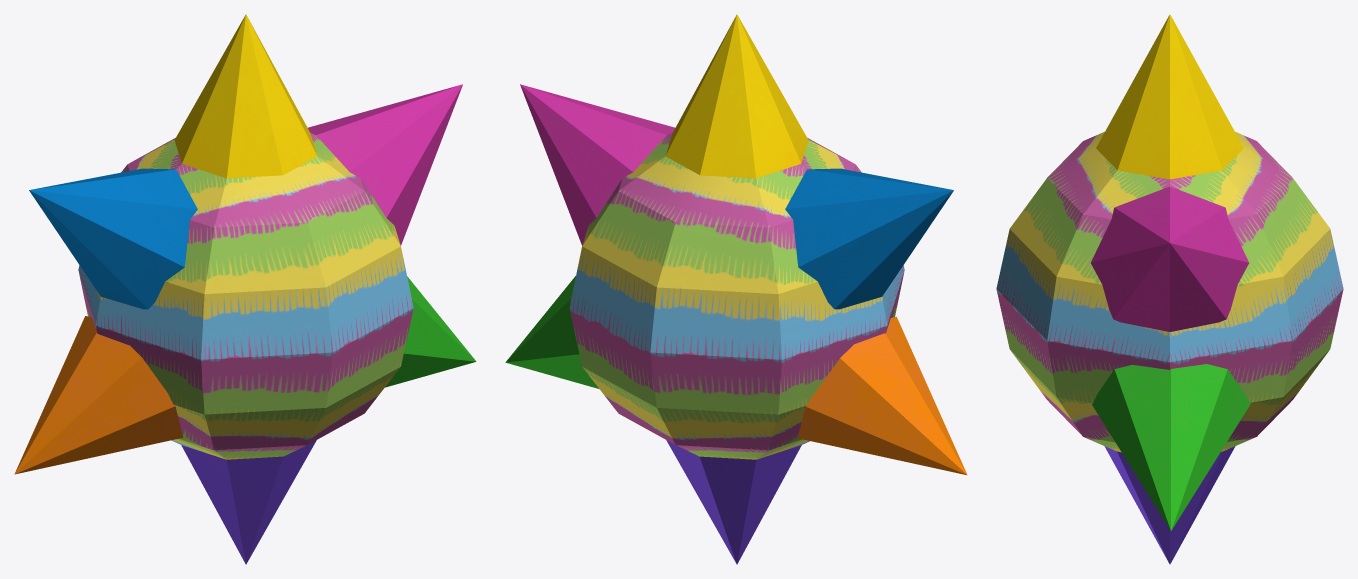
The model's file is pinata_model.fbx.
3 renders of one model, left to right at view 1: azimuth 30°, elevation 25°; view 2: azimuth 150°, elevation 25°; view 3: azimuth 270°, elevation 25°, orthographic.
Visible parts, largest first — view 1: pinata_geo; view 2: pinata_geo; view 3: pinata_geo.
Boxes of the visible parts, x1,y1,x2,y2 form: pinata_geo: (14,14,476,564); pinata_geo: (505,14,967,564); pinata_geo: (996,14,1343,564).
Size of the model in its own units: 26.65 by 30.35 by 17.33.
